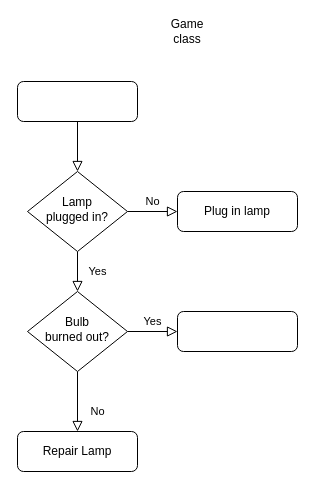
The diagram is 315 pixels wide and 489 high, and some of its shapes have lost their labels. The shapes that lost their labels are listed below. From the top down, each one's centre as x and y in pixels, then its label:
At (x=77, y=101): "Lamp doesn't work".
At (x=237, y=331): "Replace Bulb".
